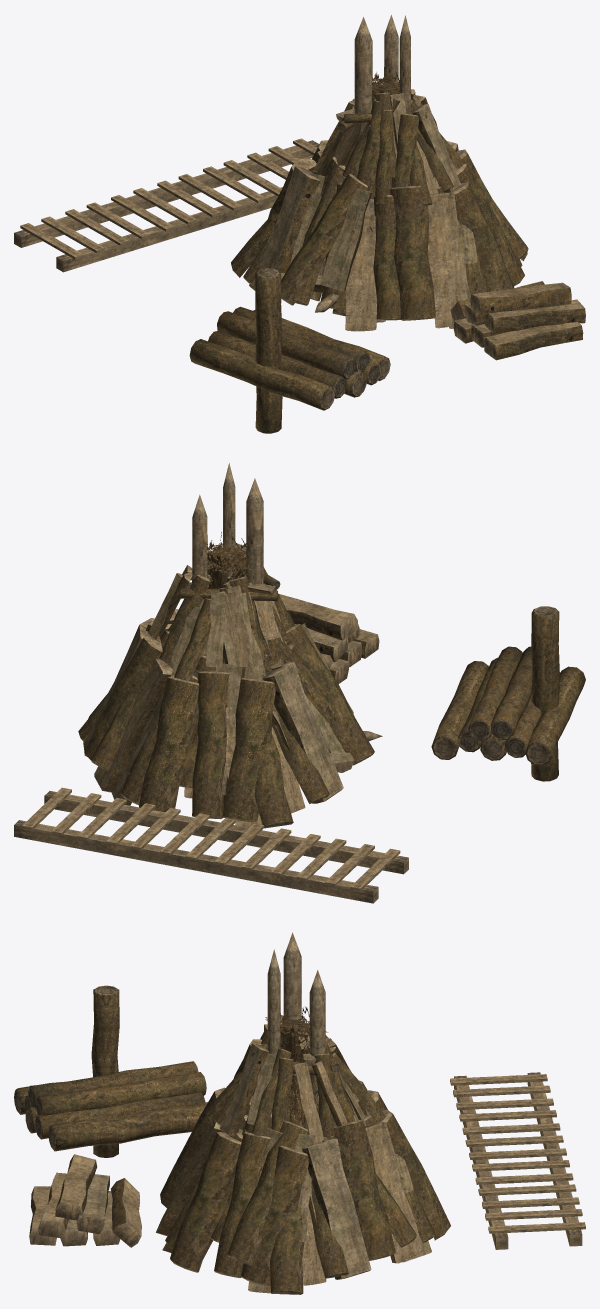
The model's file is CoalerPile_Construction_Stage3.fbx.
3 views of the same model, one above another, from view 1: azimuth 30°, elevation 25°; view 2: azimuth 150°, elevation 25°; view 3: azimuth 270°, elevation 25° (orthographic). The views are drawn at different scales.
Visible parts, largest first — view 1: CoalerPile_Construction_Stage3, CoalerPile_ConstructionWood1_Stage3, CoalerPile_ConstructionLadder_Stage3, CoalerPile_ConstructionWood2_Stage3; view 2: CoalerPile_Construction_Stage3, CoalerPile_ConstructionLadder_Stage3, CoalerPile_ConstructionWood1_Stage3, CoalerPile_ConstructionWood2_Stage3; view 3: CoalerPile_Construction_Stage3, CoalerPile_ConstructionWood1_Stage3, CoalerPile_ConstructionLadder_Stage3, CoalerPile_ConstructionWood2_Stage3.
Part boxes in pixels (x1,y1,x2,y2): CoalerPile_Construction_Stage3: (231, 15, 528, 331); CoalerPile_ConstructionWood1_Stage3: (189, 268, 390, 433); CoalerPile_ConstructionLadder_Stage3: (14, 138, 319, 272); CoalerPile_ConstructionWood2_Stage3: (450, 281, 585, 360); CoalerPile_Construction_Stage3: (78, 463, 382, 828); CoalerPile_ConstructionLadder_Stage3: (14, 787, 408, 903); CoalerPile_ConstructionWood1_Stage3: (431, 606, 585, 781); CoalerPile_ConstructionWood2_Stage3: (279, 594, 379, 683); CoalerPile_Construction_Stage3: (156, 932, 450, 1294); CoalerPile_ConstructionWood1_Stage3: (14, 985, 207, 1157); CoalerPile_ConstructionLadder_Stage3: (450, 1072, 585, 1249); CoalerPile_ConstructionWood2_Stage3: (29, 1154, 141, 1247).
Bounding box in the file's own units: 493 × 365 × 601.
